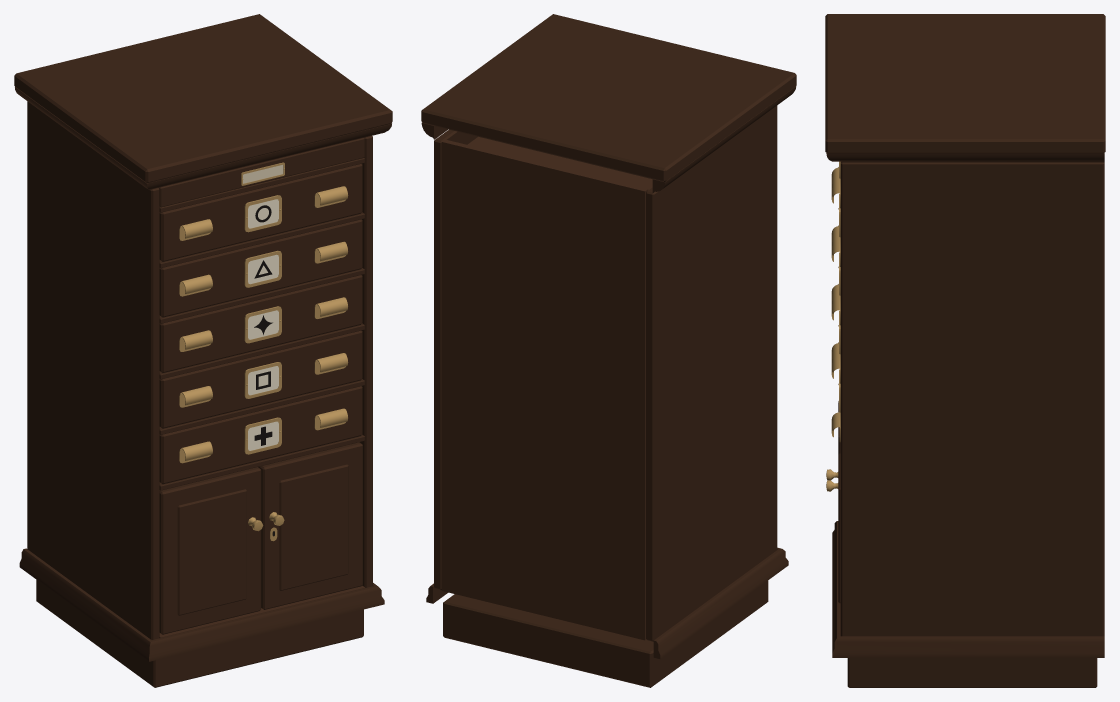
Rendered from slide_cabinet.glb.
3 views of the same model, side by side, from view 1: azimuth 30°, elevation 25°; view 2: azimuth 150°, elevation 25°; view 3: azimuth 270°, elevation 25° (orthographic). The views are drawn at different scales.
Visible parts, largest first — view 1: carcass, IA_slide_drawer_3, IA_slide_drawer_1, IA_slide_drawer_2, IA_slide_drawer_4, IA_slide_drawer_0; view 2: carcass; view 3: carcass.
Boxes of the visible parts, <box> form: carcass: <box>14,14,392,687</box>; IA_slide_drawer_3: <box>159,330,362,428</box>; IA_slide_drawer_1: <box>159,219,362,317</box>; IA_slide_drawer_2: <box>159,275,362,372</box>; IA_slide_drawer_4: <box>159,386,362,484</box>; IA_slide_drawer_0: <box>159,164,362,261</box>; carcass: <box>421,14,796,687</box>; carcass: <box>825,14,1105,687</box>.
Bounding box in the file's own units: 0.512 × 1.05 × 0.478.
